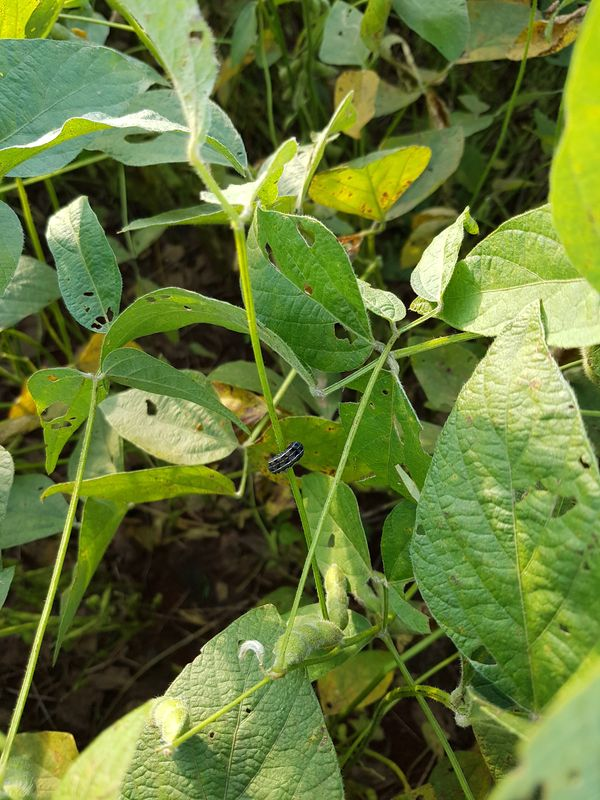Spodoptera_albula: (257, 433, 316, 484)
